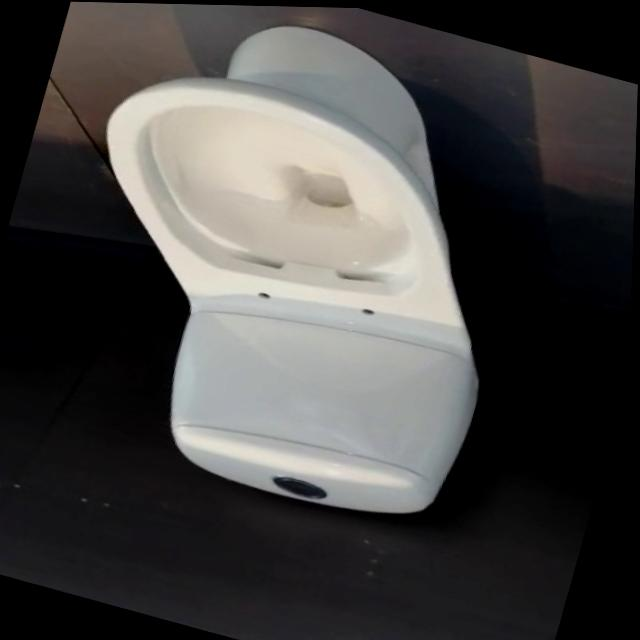toilet: (20, 1, 564, 539)
